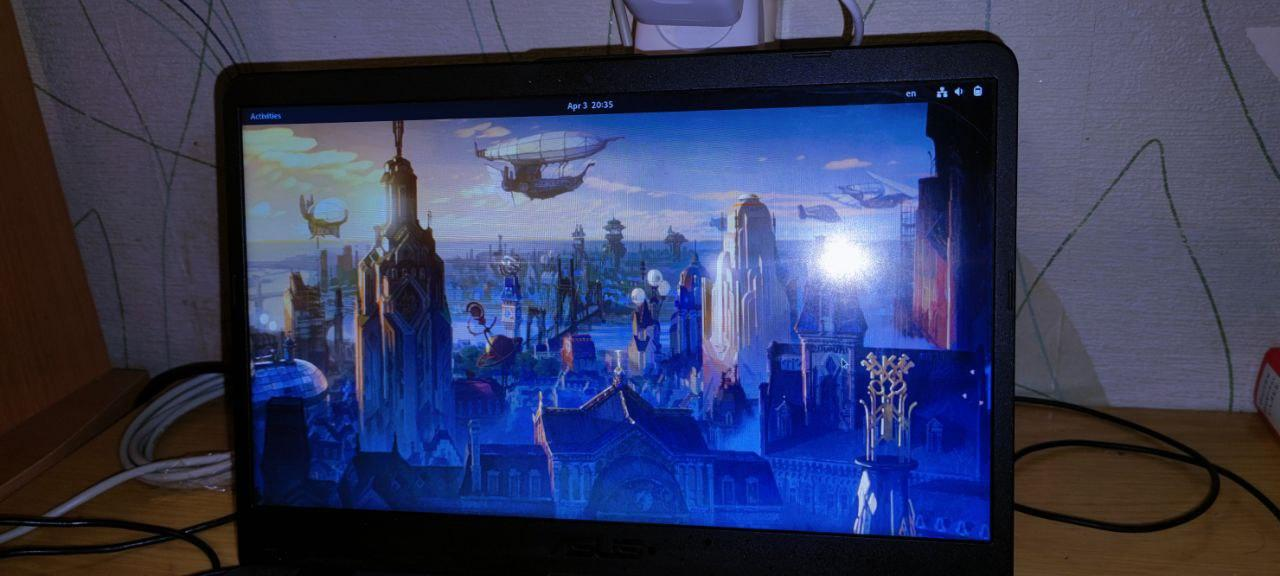monitor: (208, 30, 1019, 575)
